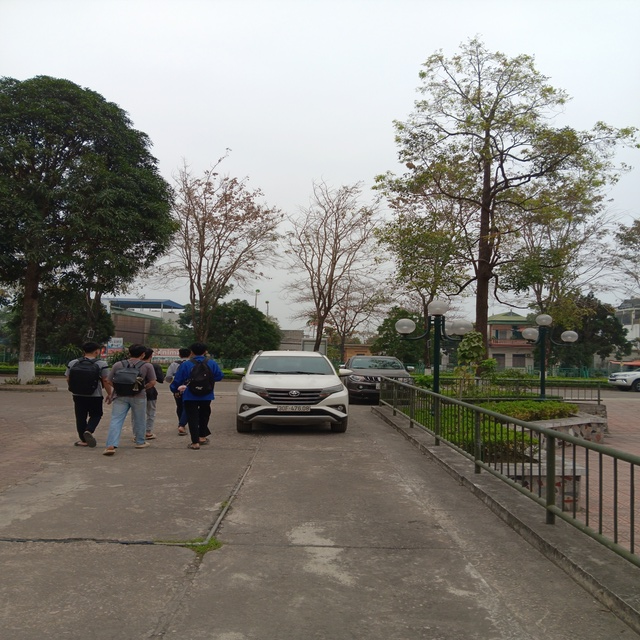cotden: (391, 288, 469, 448), (521, 306, 588, 409)
